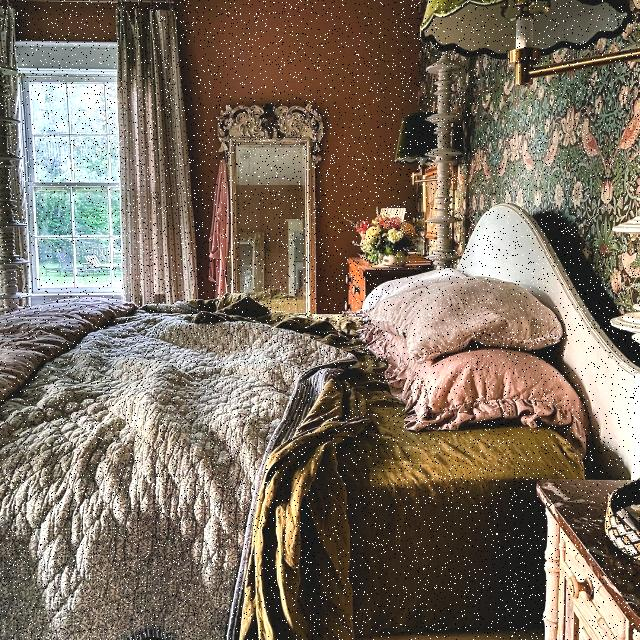bed: (0, 211, 580, 640)
